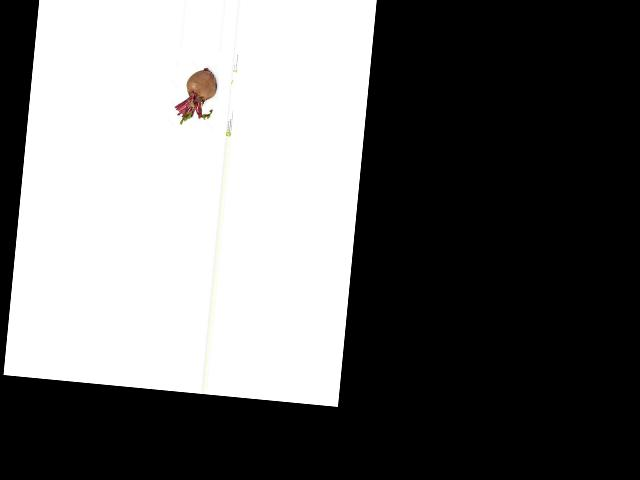beet: (173, 65, 217, 127)
